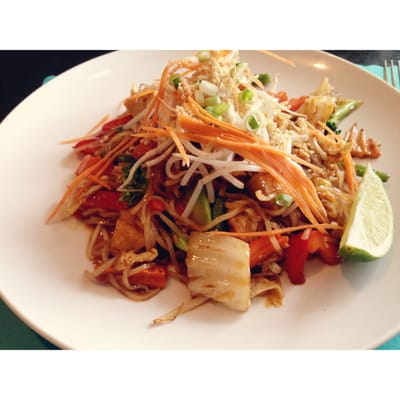burger: (383, 58, 400, 94)
